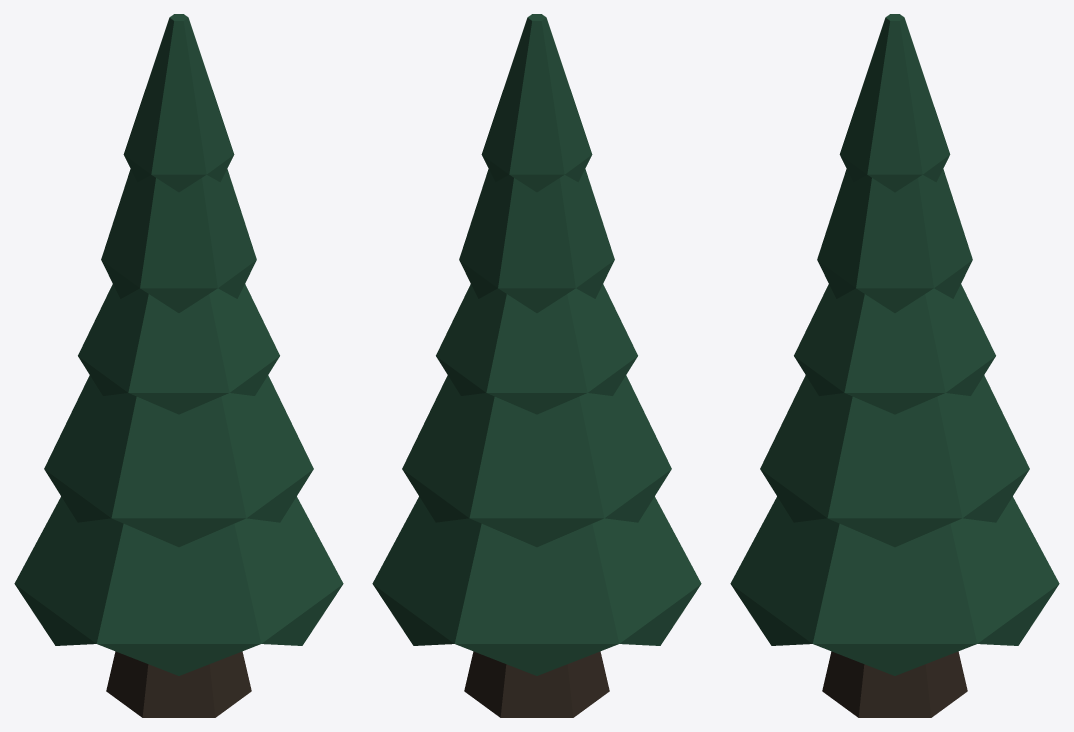
The model's file is rn_pine_c.glb.
3 renders of one model, left to right at view 1: azimuth 30°, elevation 25°; view 2: azimuth 150°, elevation 25°; view 3: azimuth 270°, elevation 25°, orthographic.
Parts seen in each view (by area): view 1: rn_pine_c; view 2: rn_pine_c; view 3: rn_pine_c.
Boxes of the visible parts, bbox=[...] form: rn_pine_c: bbox=[14, 14, 343, 717]; rn_pine_c: bbox=[372, 14, 701, 717]; rn_pine_c: bbox=[730, 14, 1059, 717].
Size of the model in its own units: 2.3 by 6 by 2.66.
